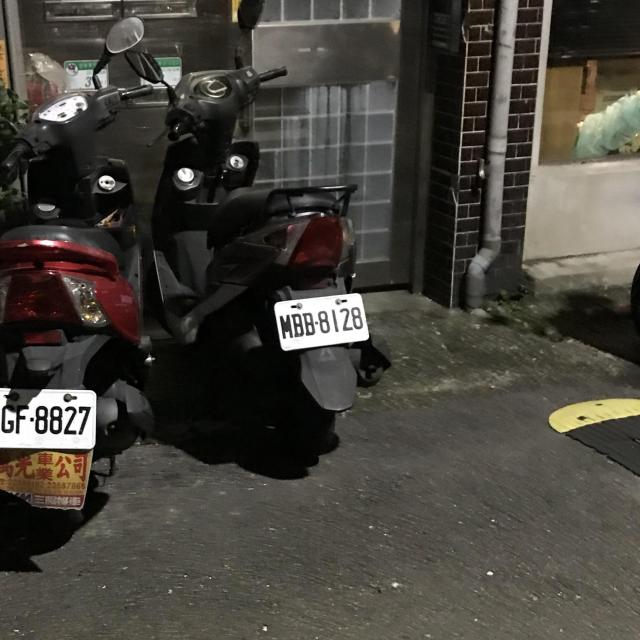W: (0, 383, 101, 452), (268, 290, 372, 352)
